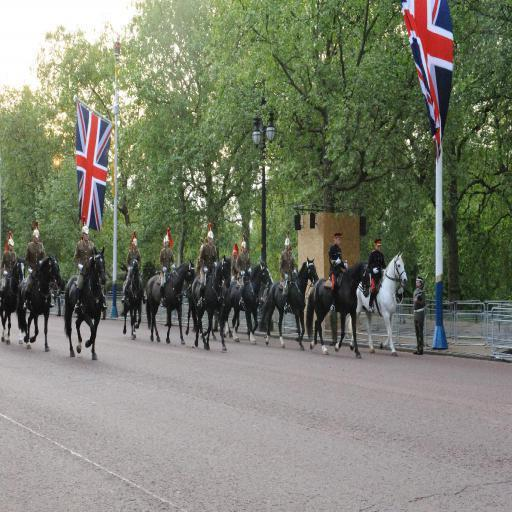horse: (146, 250, 408, 358), (62, 245, 106, 360), (20, 254, 66, 352), (0, 255, 27, 345), (118, 255, 144, 341)
